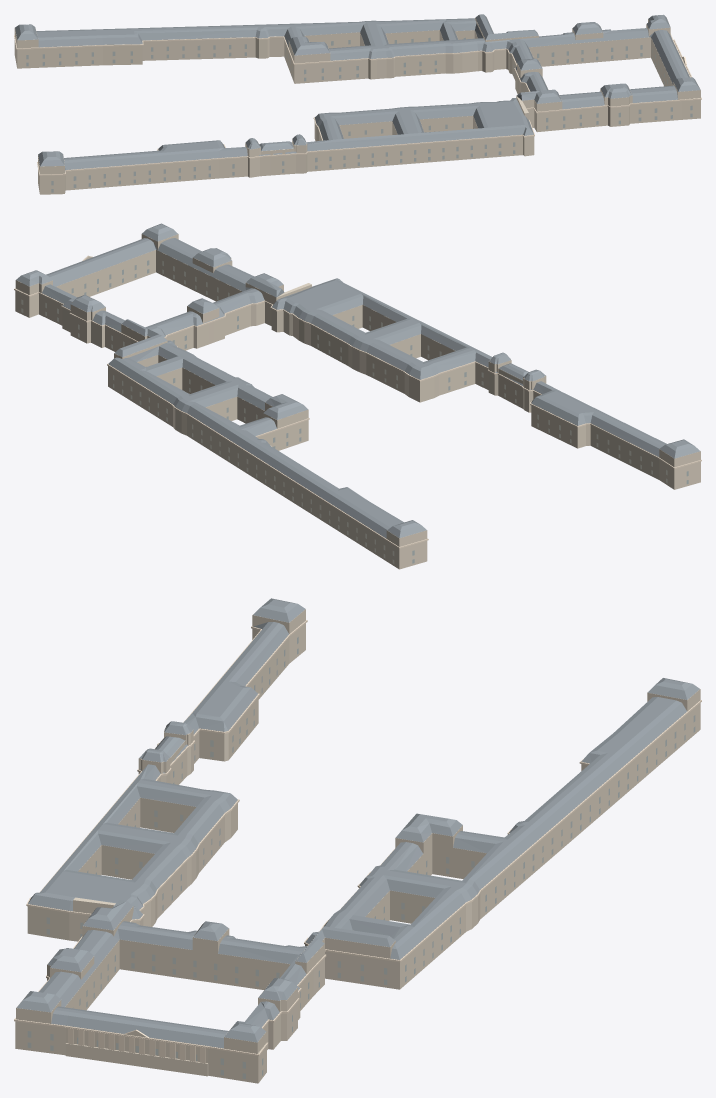
3 views of the same model, one above another, from view 1: azimuth 30°, elevation 25°; view 2: azimuth 150°, elevation 25°; view 3: azimuth 270°, elevation 25° (orthographic). The views are drawn at different scales.
Parts seen in each view (by area): view 1: stone, roof, trim, window; view 2: stone, roof, trim, window; view 3: roof, stone, trim, window.
Boxes of the visible parts, x1=… form: stone: x1=14, y1=18, x2=700, y2=194; roof: x1=15, y1=14, x2=700, y2=171; trim: x1=14, y1=34, x2=701, y2=175; window: x1=26, y1=37, x2=692, y2=192; stone: x1=15, y1=234, x2=700, y2=569; roof: x1=16, y1=223, x2=700, y2=538; trim: x1=14, y1=255, x2=701, y2=548; window: x1=21, y1=260, x2=688, y2=563; roof: x1=16, y1=598, x2=699, y2=1048; stone: x1=15, y1=609, x2=700, y2=1083; trim: x1=14, y1=620, x2=701, y2=1063; window: x1=27, y1=637, x2=695, y2=1078.
Size of the model in its own units: 711 by 37.6 by 467.
